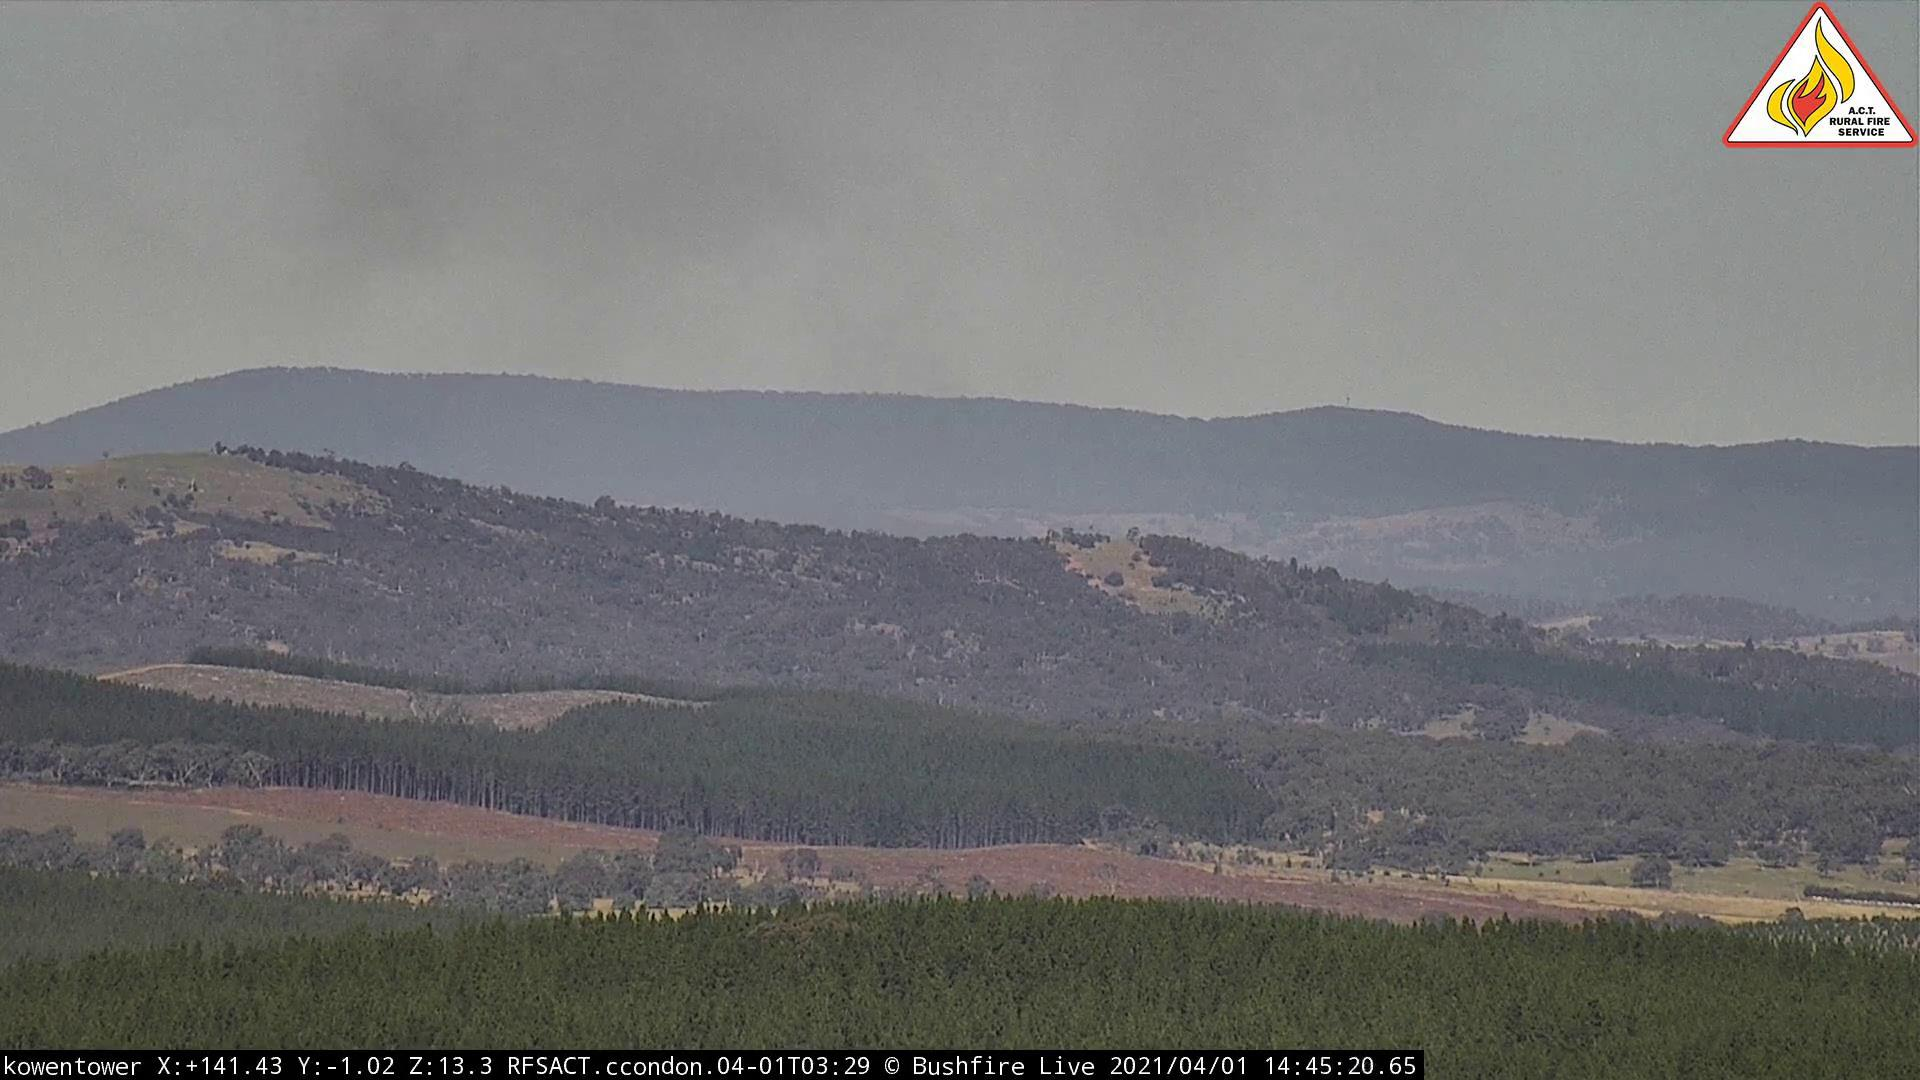instance_salient_object: (272, 36, 1263, 467)
